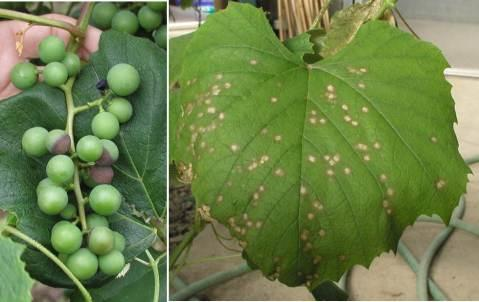grape leaf: (176, 24, 470, 292)
